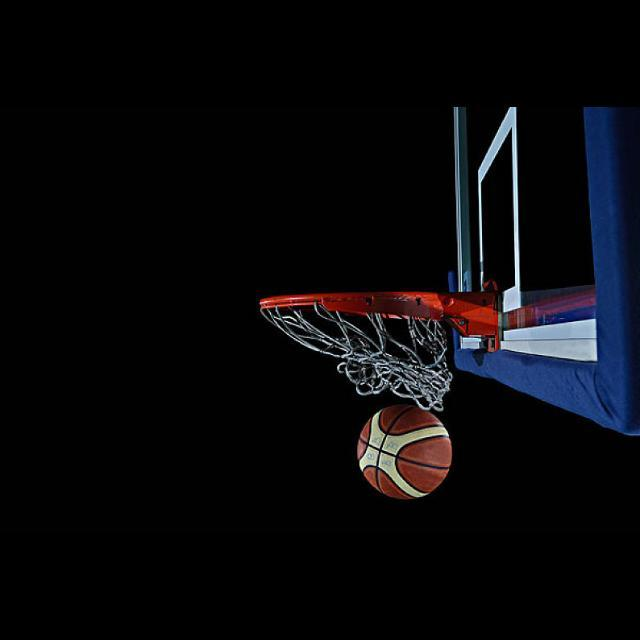basketball: (359, 407, 451, 499)
rim: (261, 293, 449, 409)
